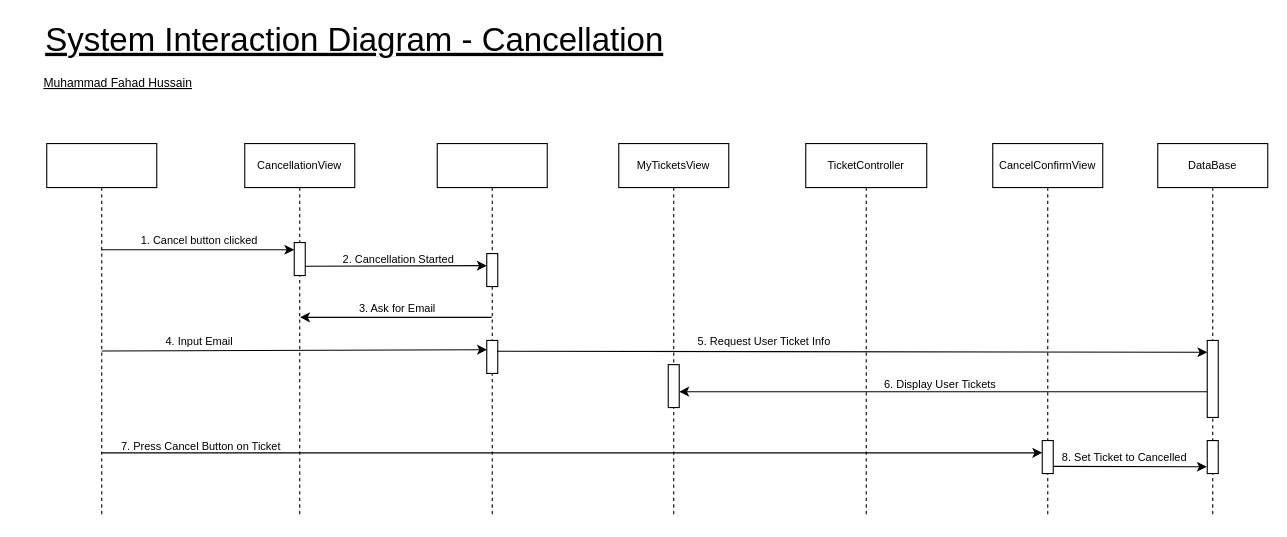
Image size: 1287x537. Some labels were removed from this diagram. Each missing label, with the box of its shape:
CancellationController: (436, 142, 547, 518)
User: (46, 142, 157, 518)
